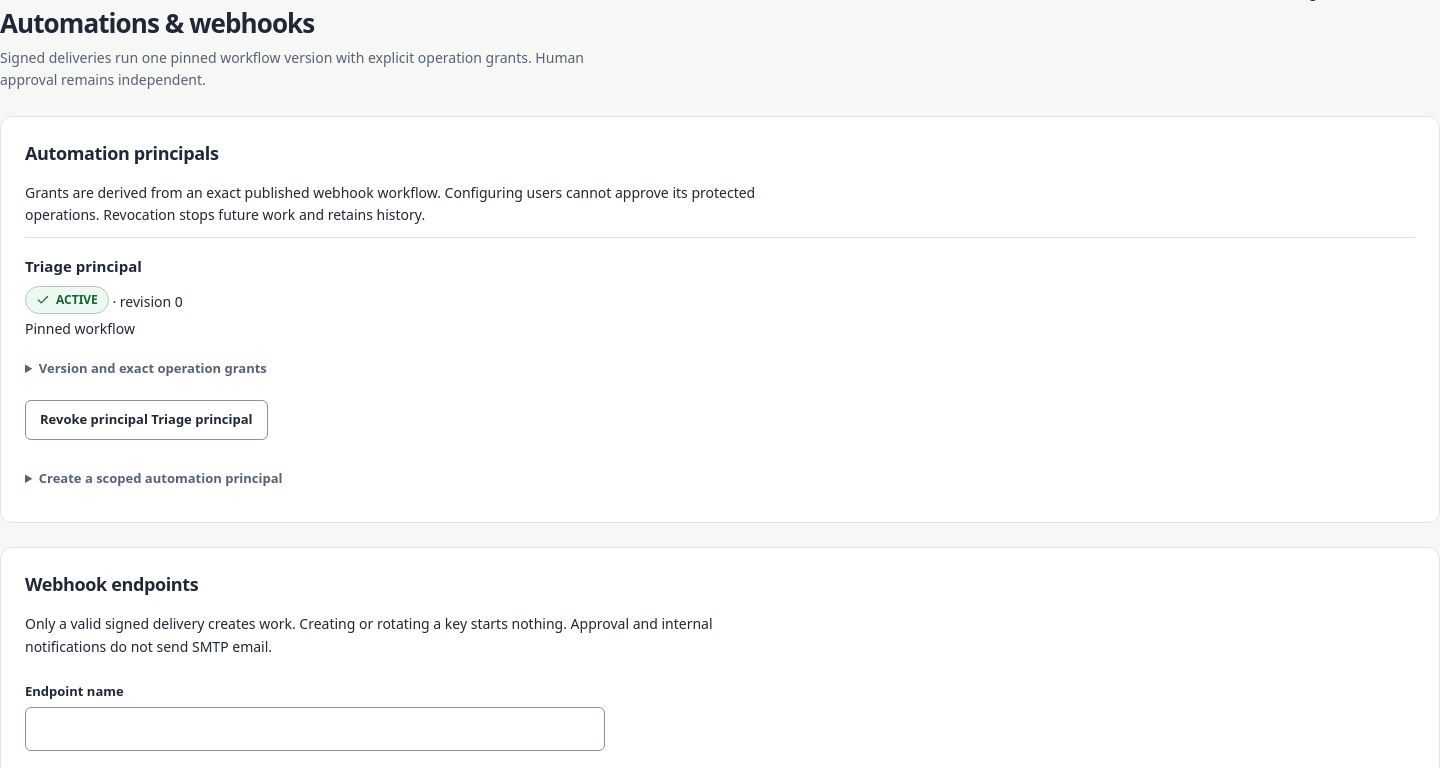
Scenario: rejects a published manual workflow regardless of webhook draft contents
Click the heading "Create a scoped automation principal" at point(161, 478), box [39,469,282,487]
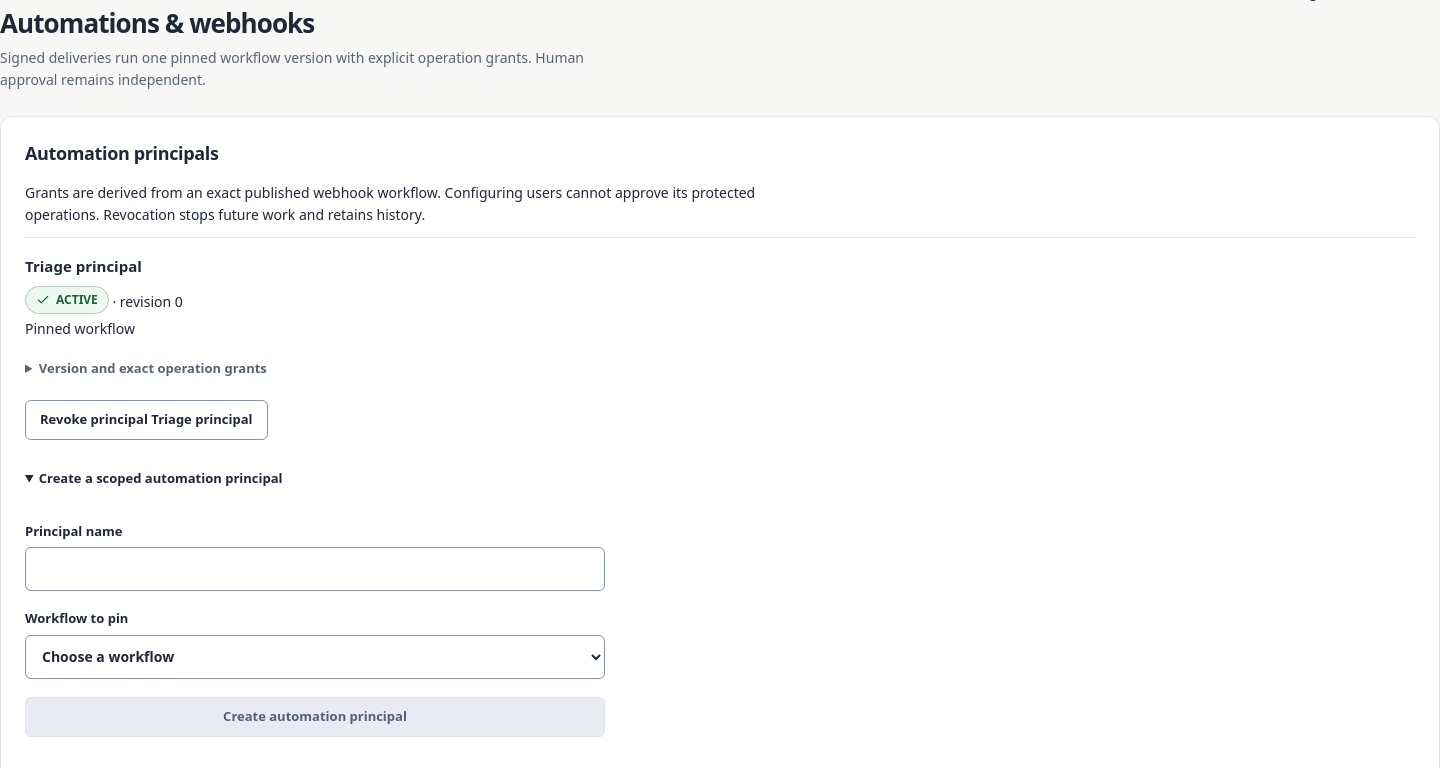
Expected: the dropdown labelled "Workflow to pin" is shown
Select "Saved triage" in the dropdown labelled "Workflow to pin" at point(315, 657), box [25,635,605,679]
(page scrolled)
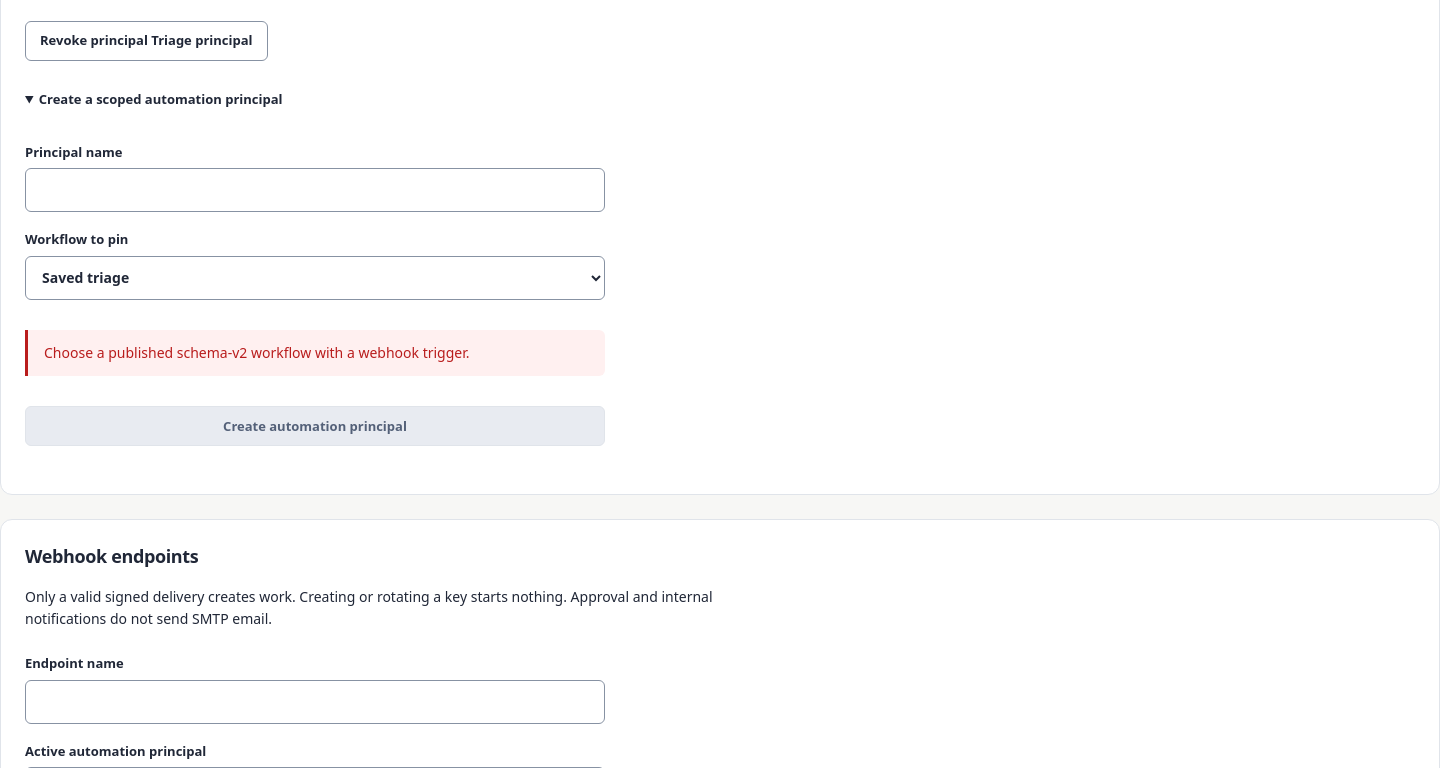
Expected: the button "Create automation principal" is disabled, [25,406,605,446]
Expected: the text "Choose a published schema-v2 workflow with a webhook trigger." is shown, [25,330,605,376]
